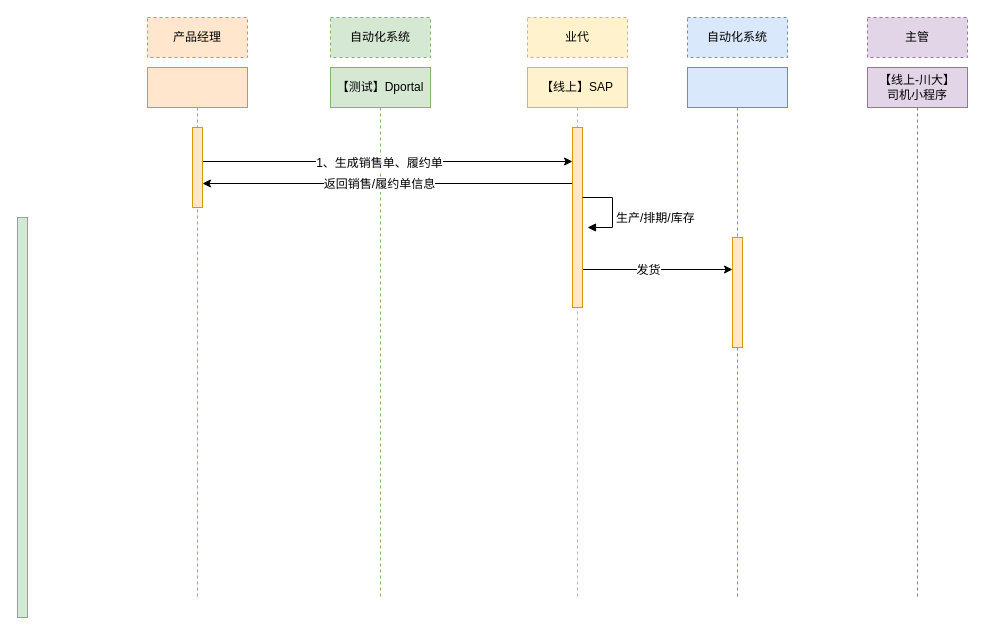
Image size: 985x635. Some labels were removed from this diagram. Each missing label, with the box of its shape:
【线上-川大】TMS: (686, 66, 788, 598)
【线上】Dportal: (146, 66, 248, 598)
